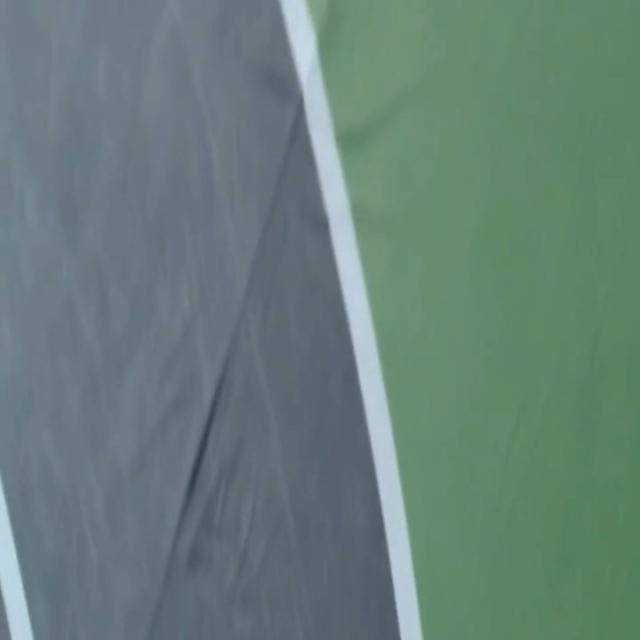right: (280, 0, 421, 639)
